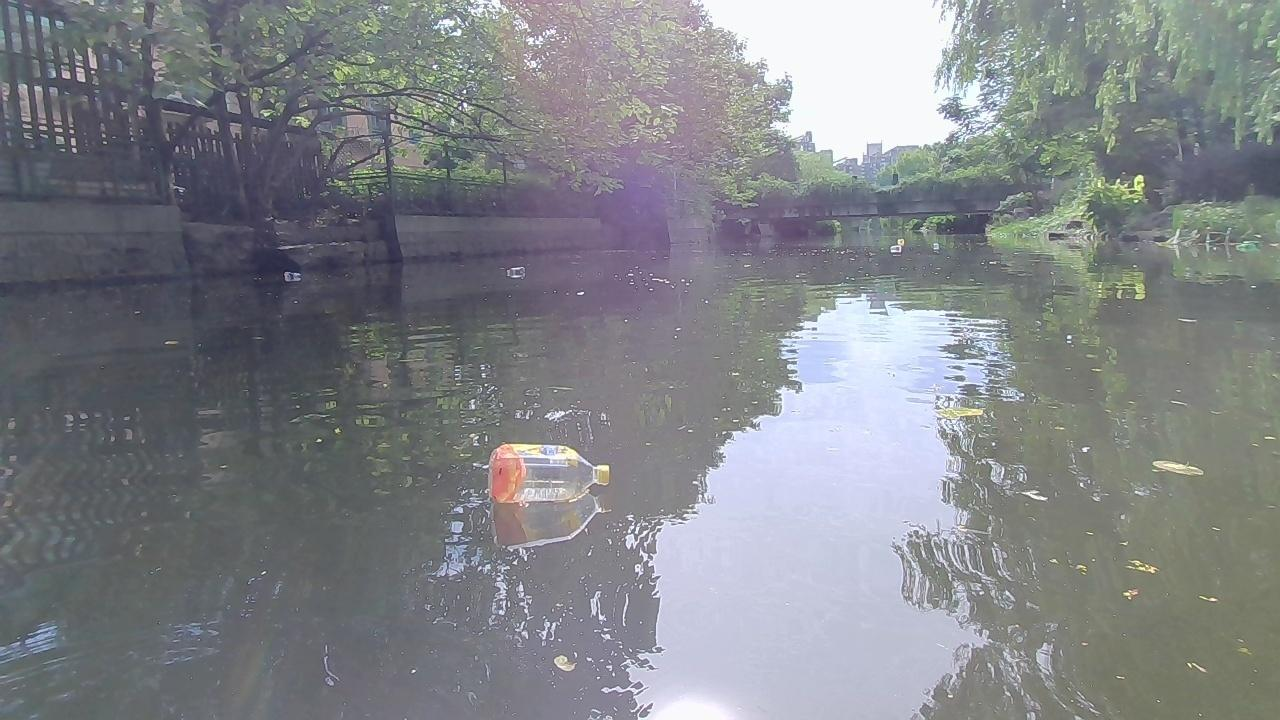bottle: (480, 440, 610, 505), (1233, 238, 1261, 255), (504, 263, 525, 277), (280, 268, 304, 280), (887, 245, 901, 254), (892, 235, 903, 245), (932, 243, 942, 252)
